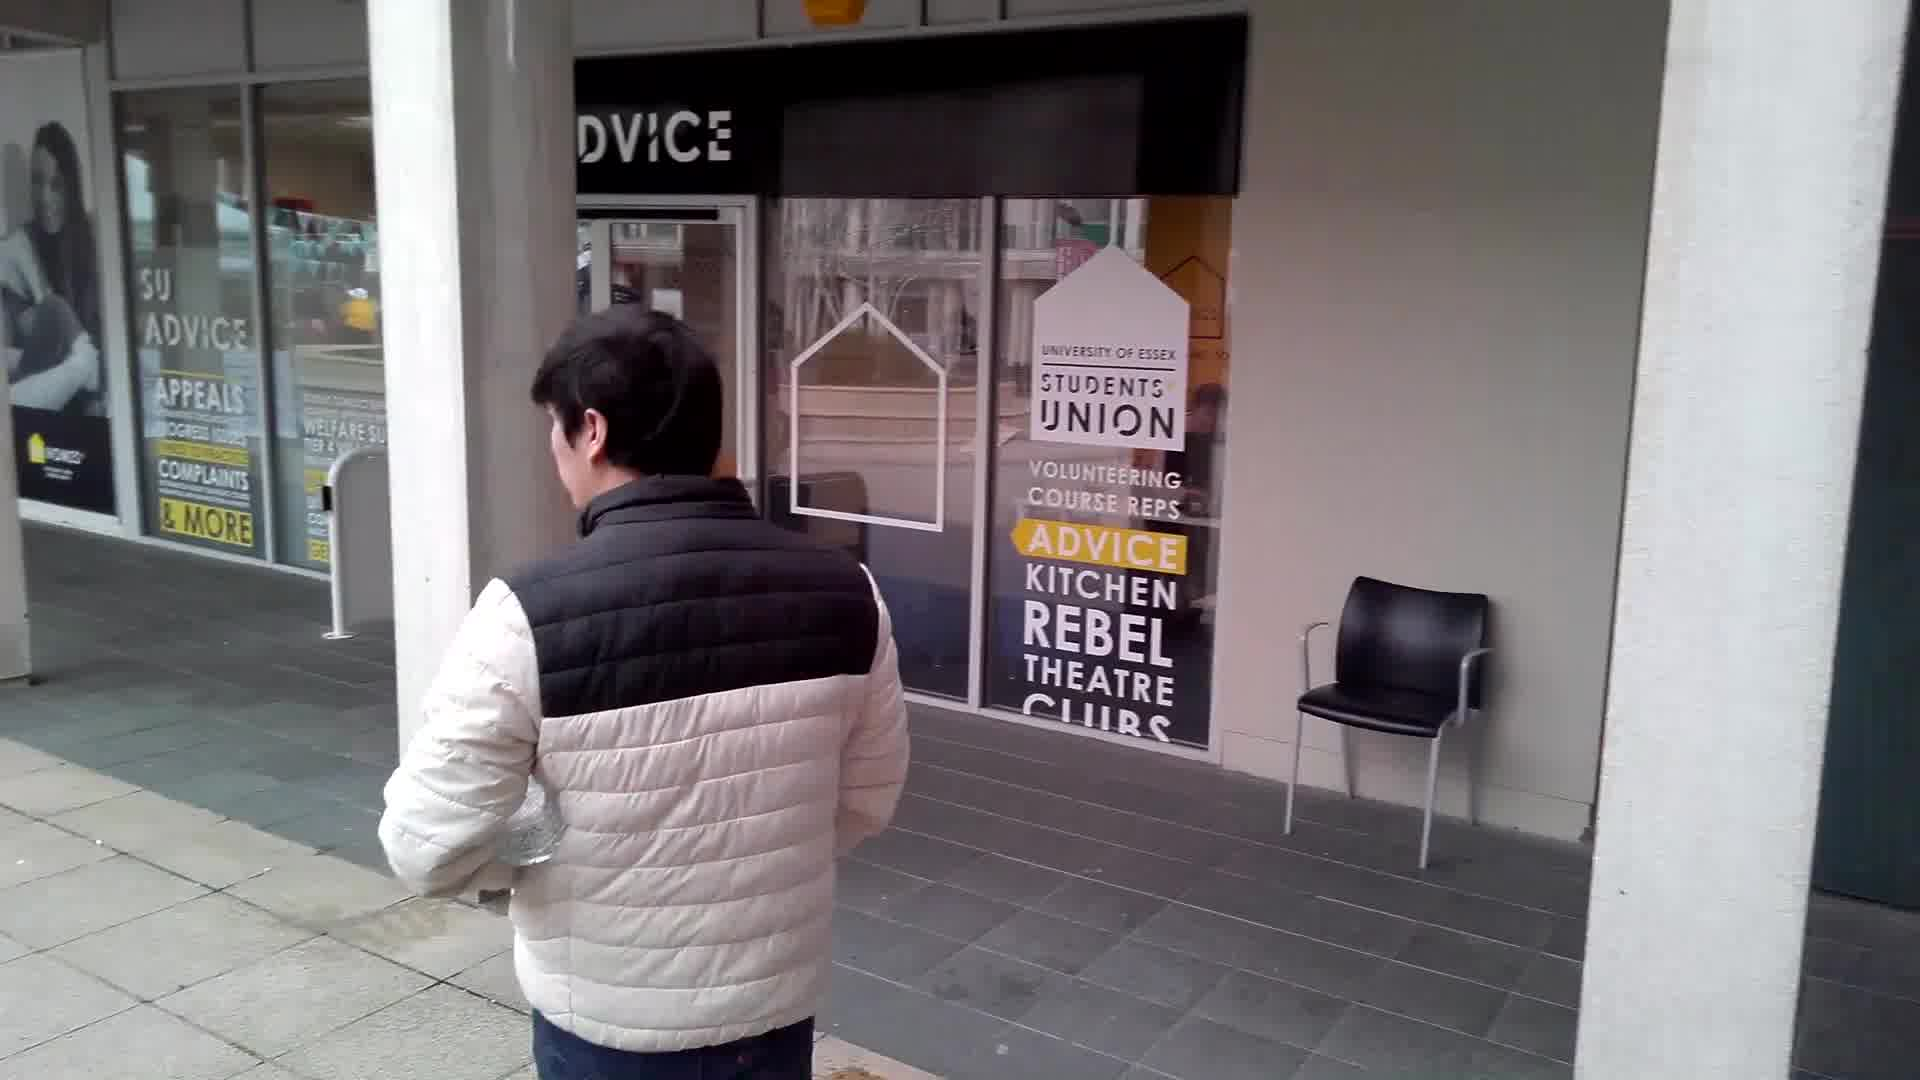Person: (485, 289, 858, 1080)
